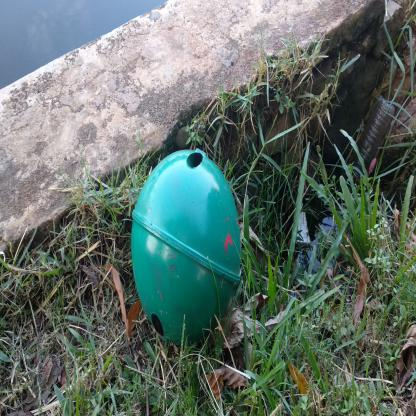green_buoy: (128, 144, 242, 356)
